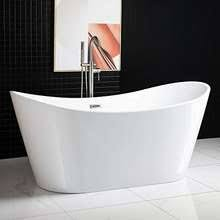bathub: (5, 72, 210, 197)
